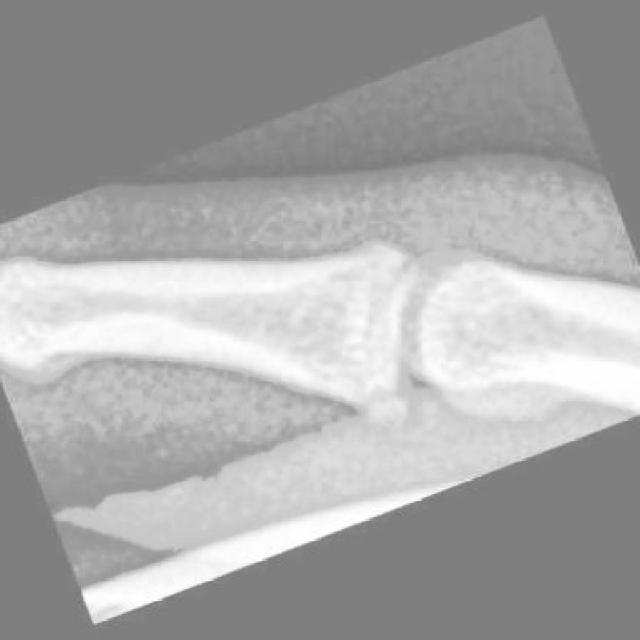Fracture: (340, 365, 433, 450)
